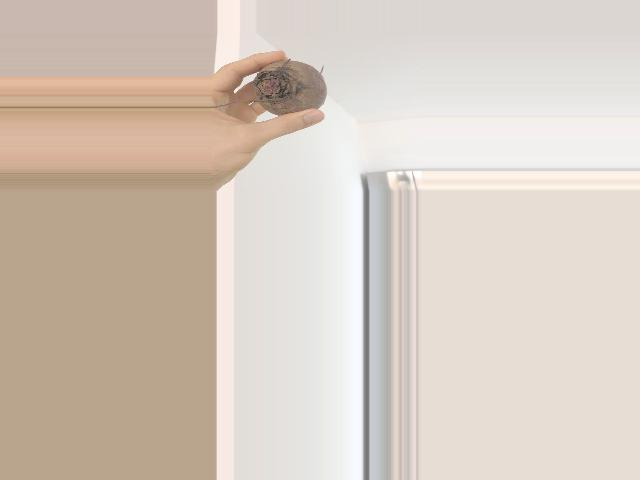beet: (211, 58, 327, 117)
